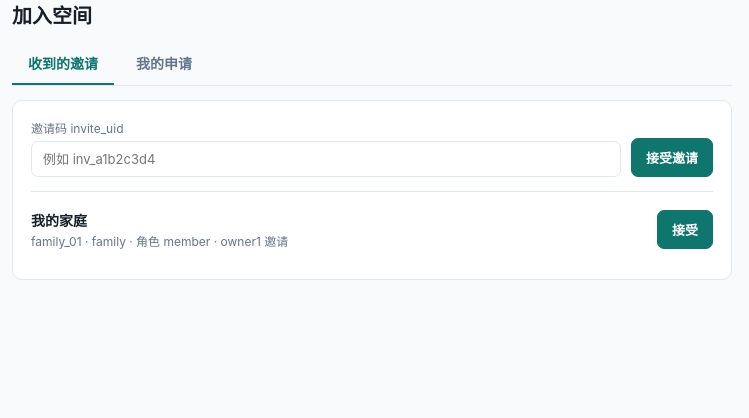
JoinSpaceView › renders my request status chips in the requests tab
The image size is (749, 418).
Click the tab with test id "tab-requests" at (164,64), box [120, 43, 208, 85]
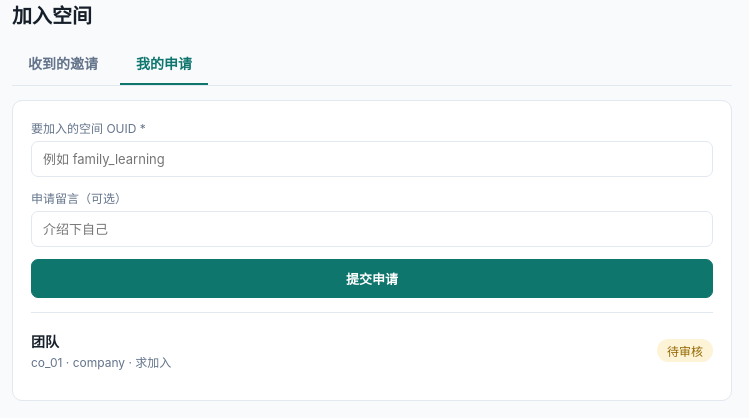
Expected: the number of elements with test id "my-request-row" is 1, [31, 333, 713, 370]
Expected: the text "待审核" is shown, [657, 339, 713, 362]
